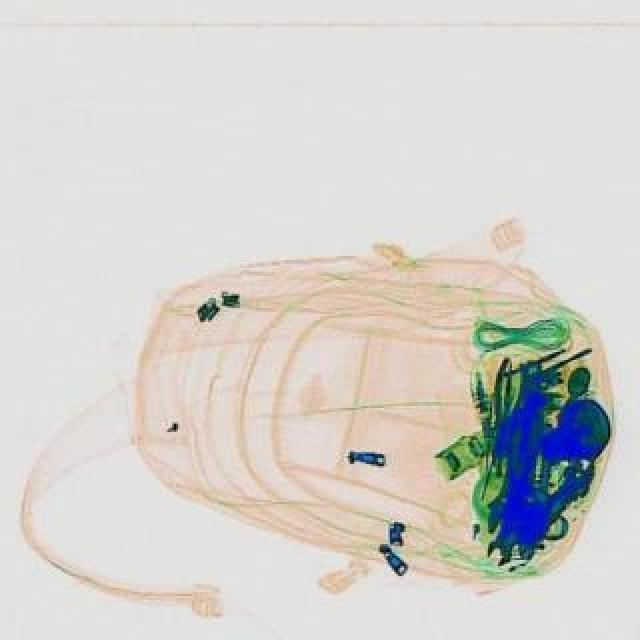scissors: (476, 456, 596, 568)
wrench: (484, 354, 528, 454)
